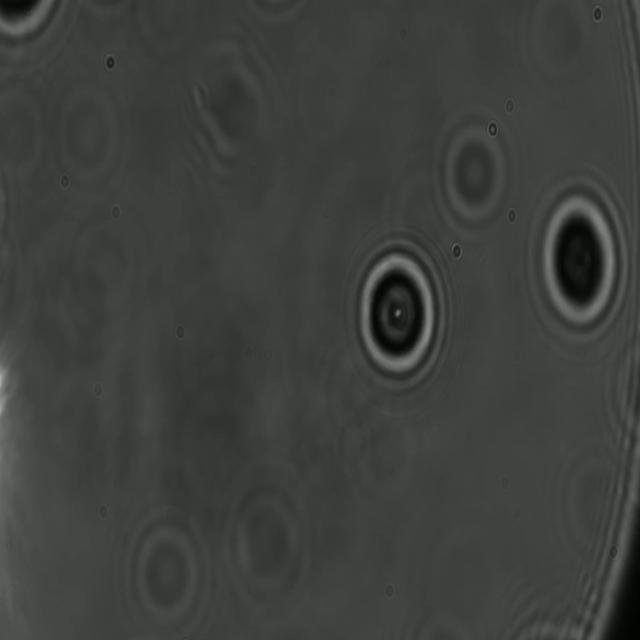LCELL: (346, 234, 448, 397)
